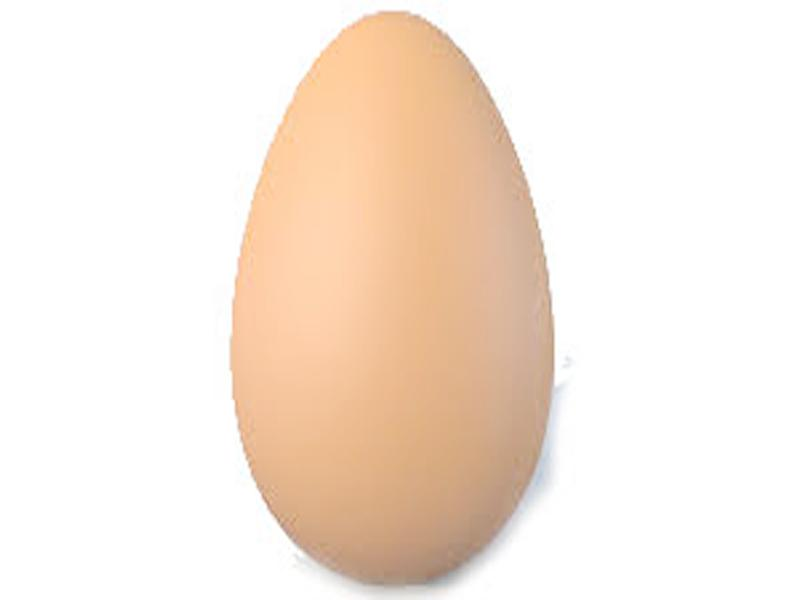Eggs: (229, 14, 552, 586)
